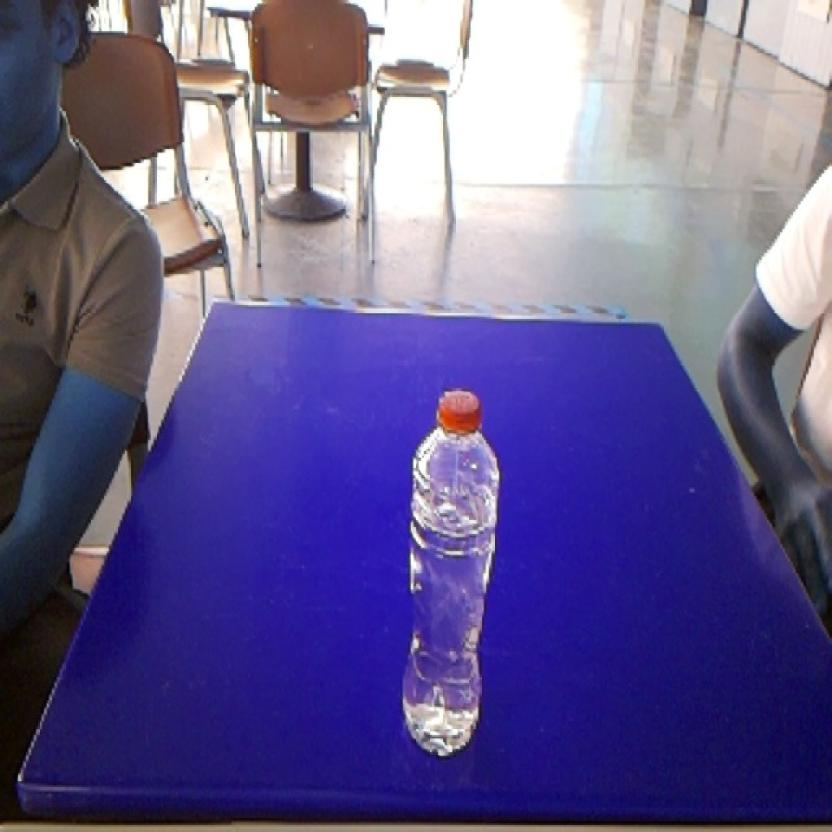no_label: (391, 376, 508, 766)
